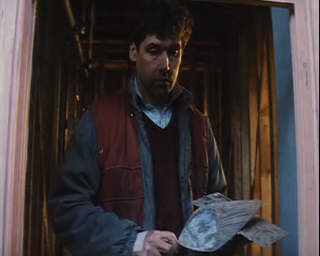face: (136, 36, 181, 99)
ms: (1, 1, 320, 256)
person: (46, 1, 227, 256)
